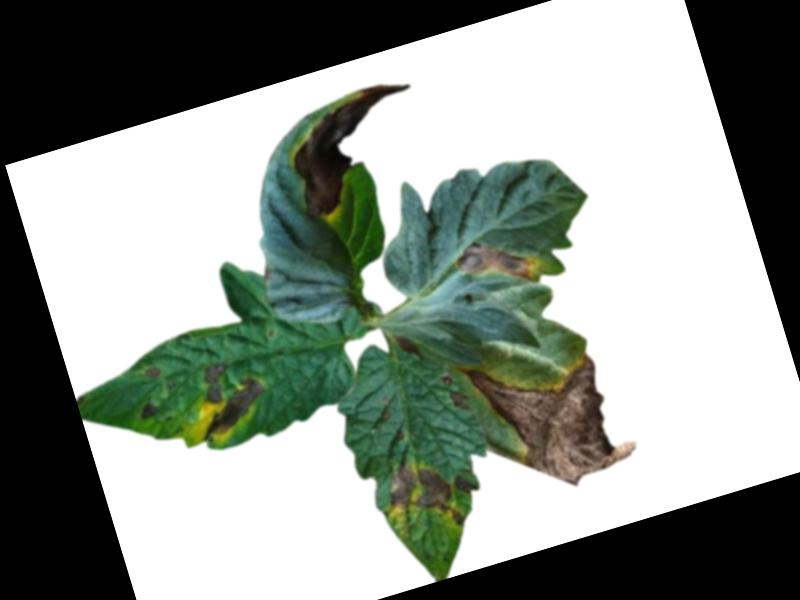Early_blight: (461, 323, 641, 507), (275, 72, 440, 220), (184, 348, 275, 441), (381, 449, 467, 543), (453, 224, 547, 301), (439, 367, 473, 417), (393, 329, 424, 363), (451, 467, 479, 498), (132, 396, 161, 425), (145, 362, 163, 378)
